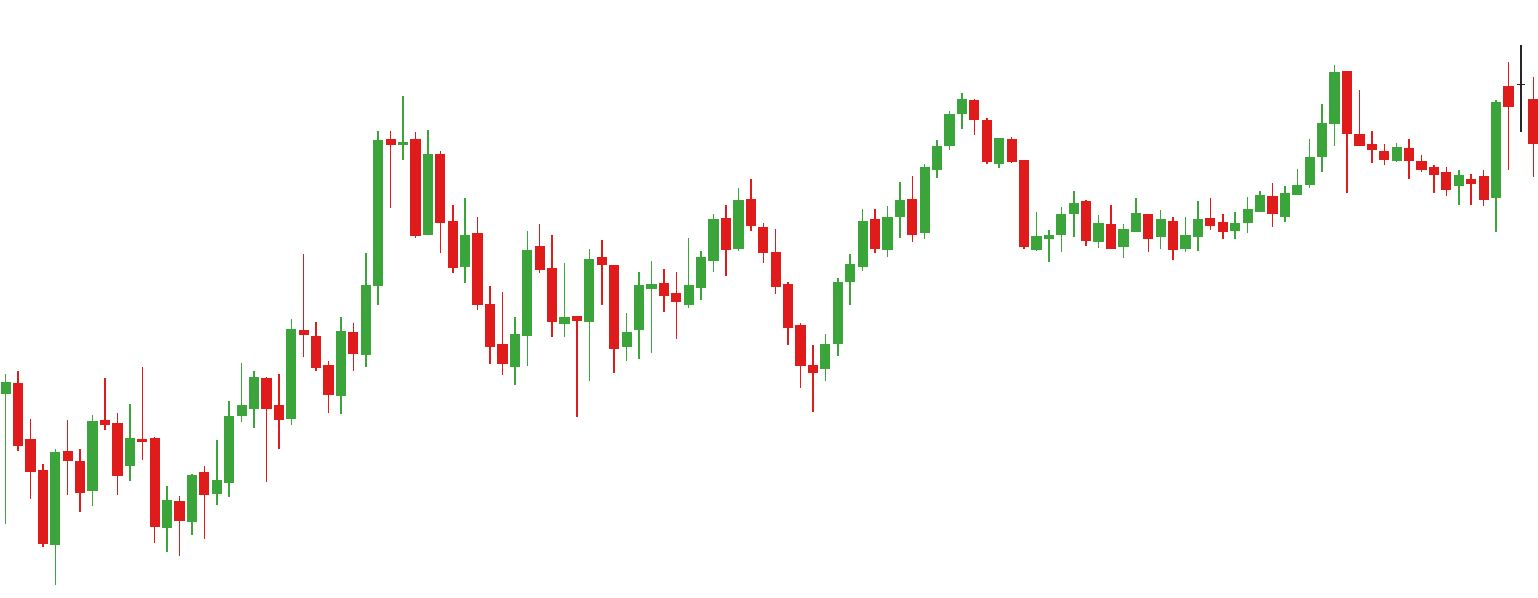buy: (608, 277, 831, 422), (74, 434, 174, 553)
